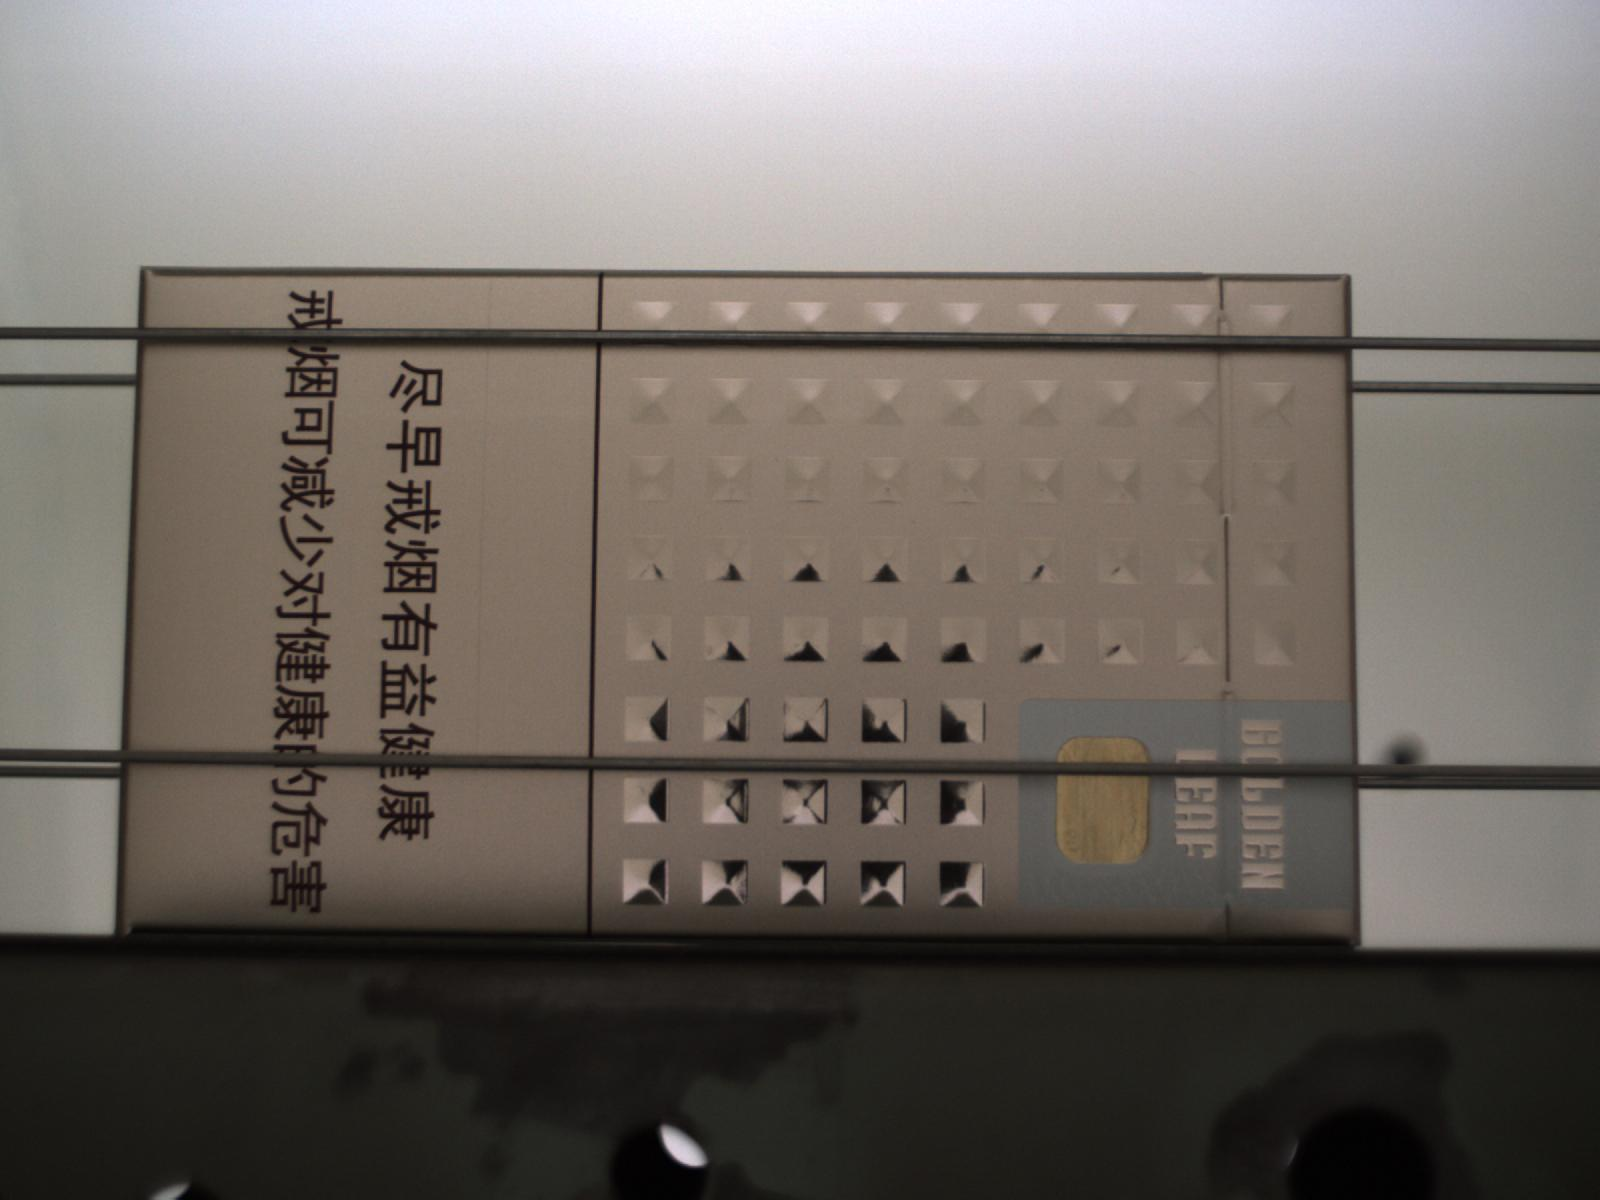dirtyScratch: (467, 276, 500, 750)
